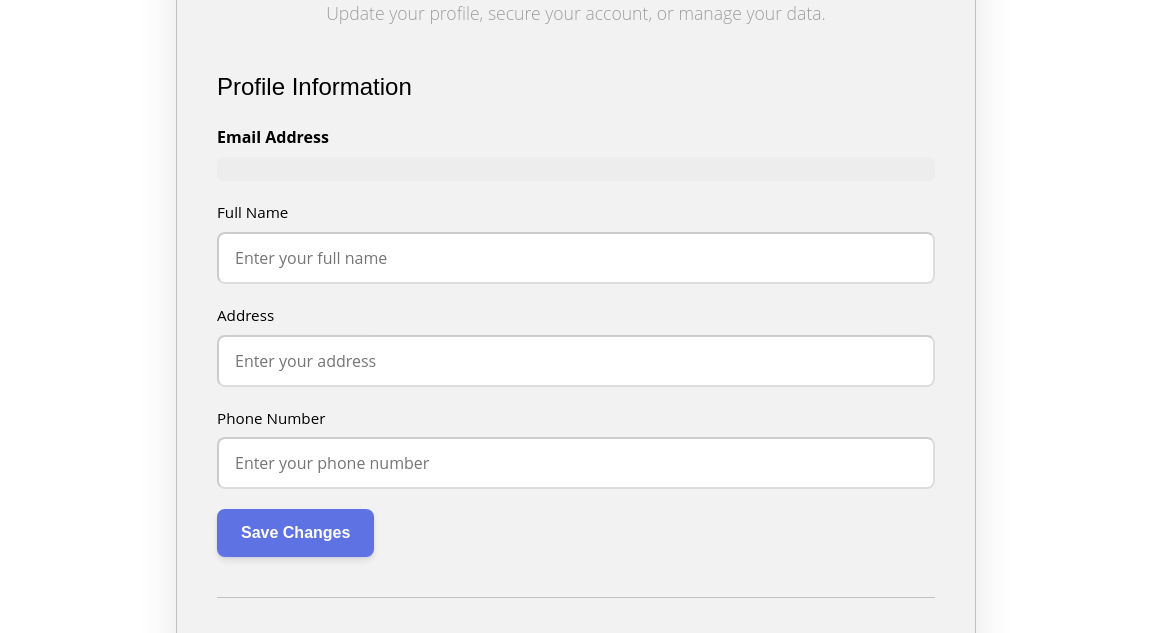
Test case: Account Component › saves profile changes
(page scrolled)
Type "New Address" into the field with placeholder "Enter your address". click: (576, 360)
box: x1=217 y1=334 x2=935 y2=386
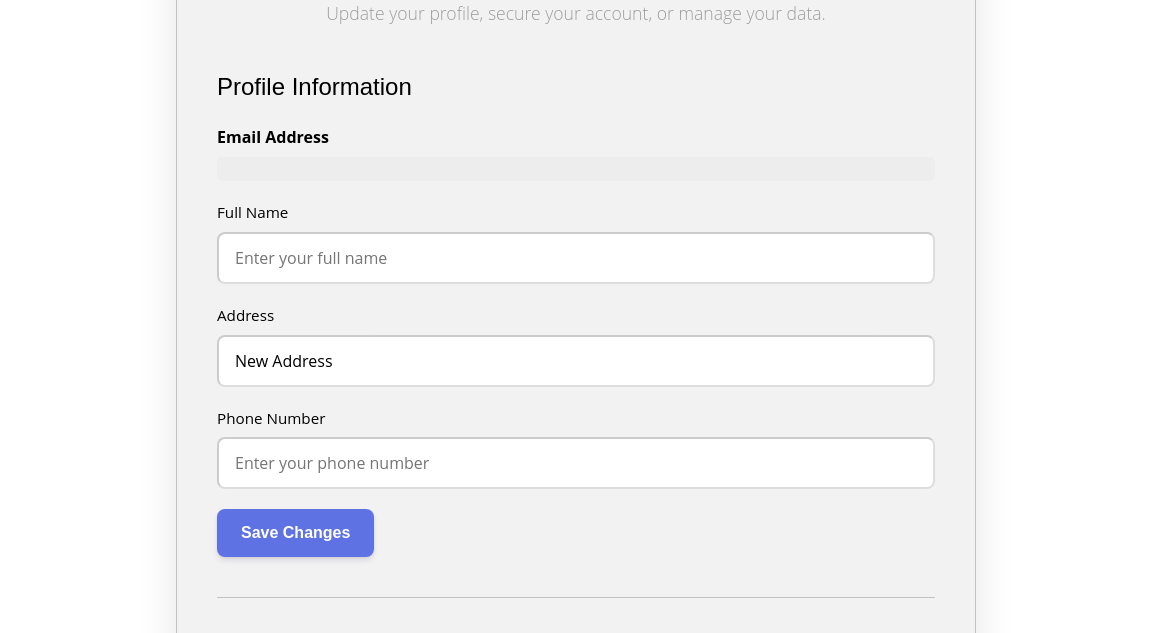
Click the button "Save Changes". click: (296, 533)
box: x1=217 y1=509 x2=374 y2=557
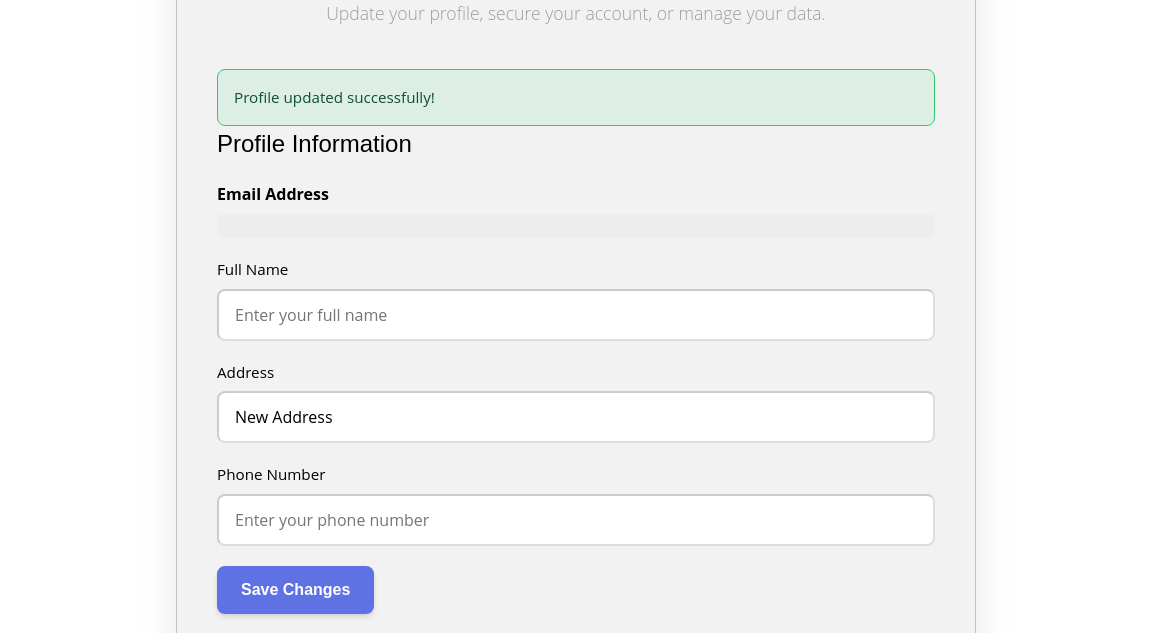
expect the text "Profile updated successfully!" is shown: met, box x1=217 y1=69 x2=935 y2=126
